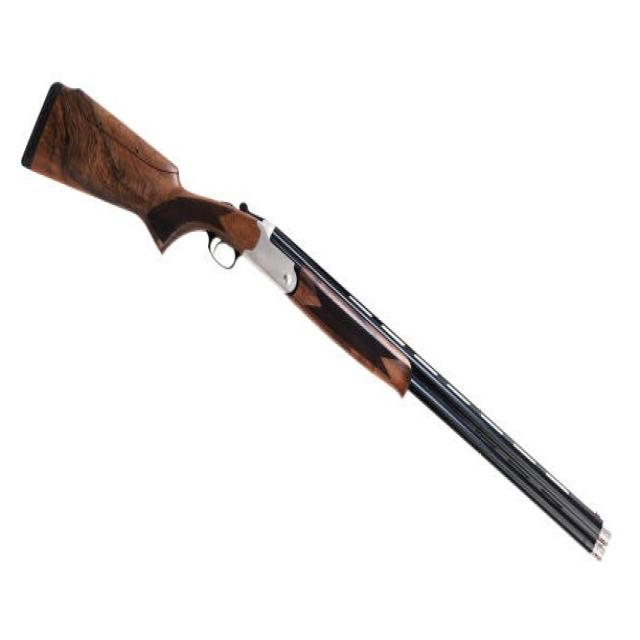rifle: (20, 68, 613, 562)
